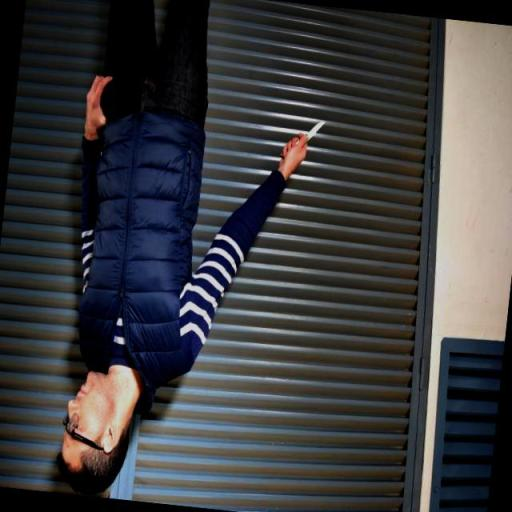knife: (278, 112, 327, 162)
